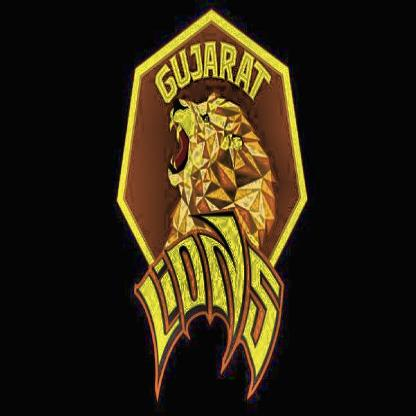Gujarat lions: (117, 8, 309, 403)
